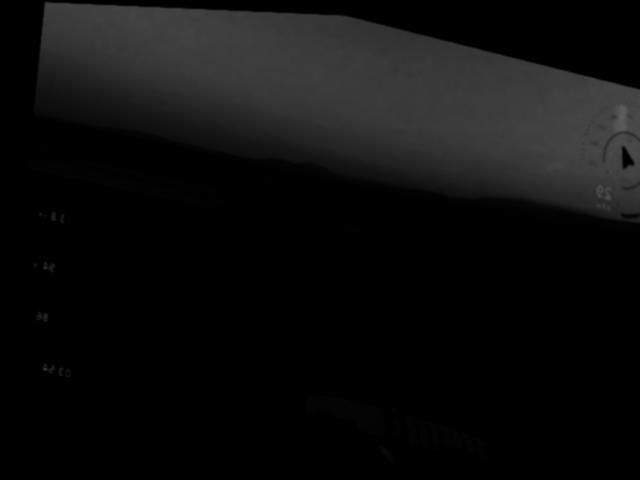hedef: (263, 354, 505, 480)
